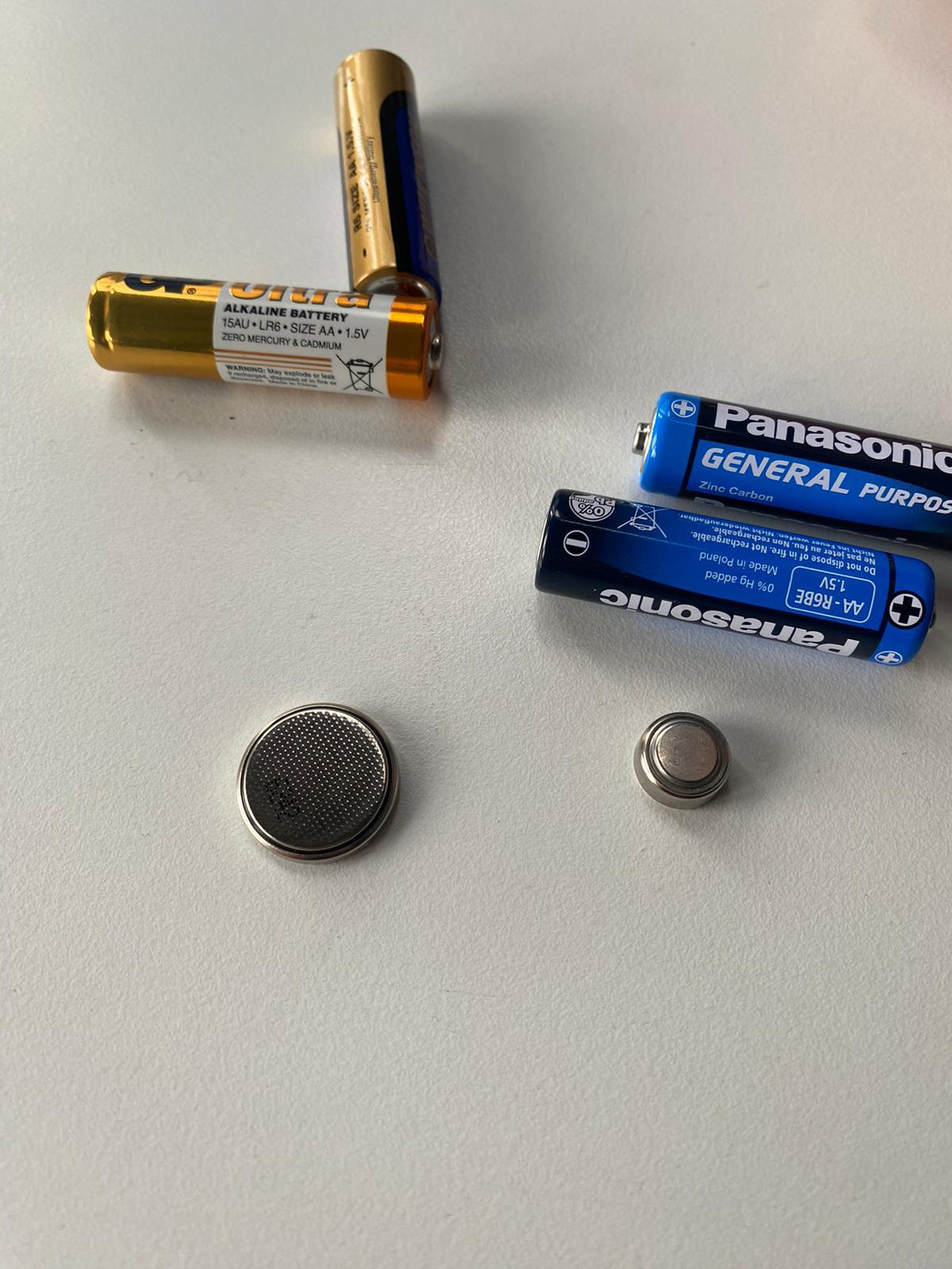AA: (534, 486, 936, 667), (290, 24, 468, 313)
COIN: (222, 666, 420, 884), (591, 714, 762, 833)
